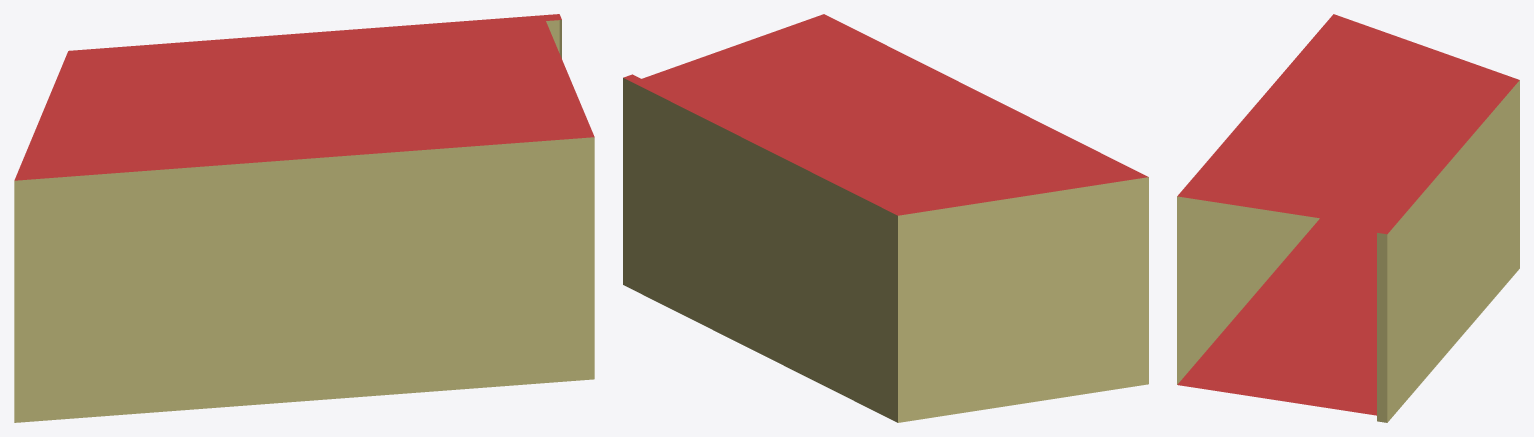
The picture shows the model from 3 angles, left to right: view 1: azimuth 30°, elevation 25°; view 2: azimuth 150°, elevation 25°; view 3: azimuth 270°, elevation 25°; orthographic projection. The views are drawn at different scales.
Bounding box in the file's own units: 12.76 × 8.39 × 5.09.
